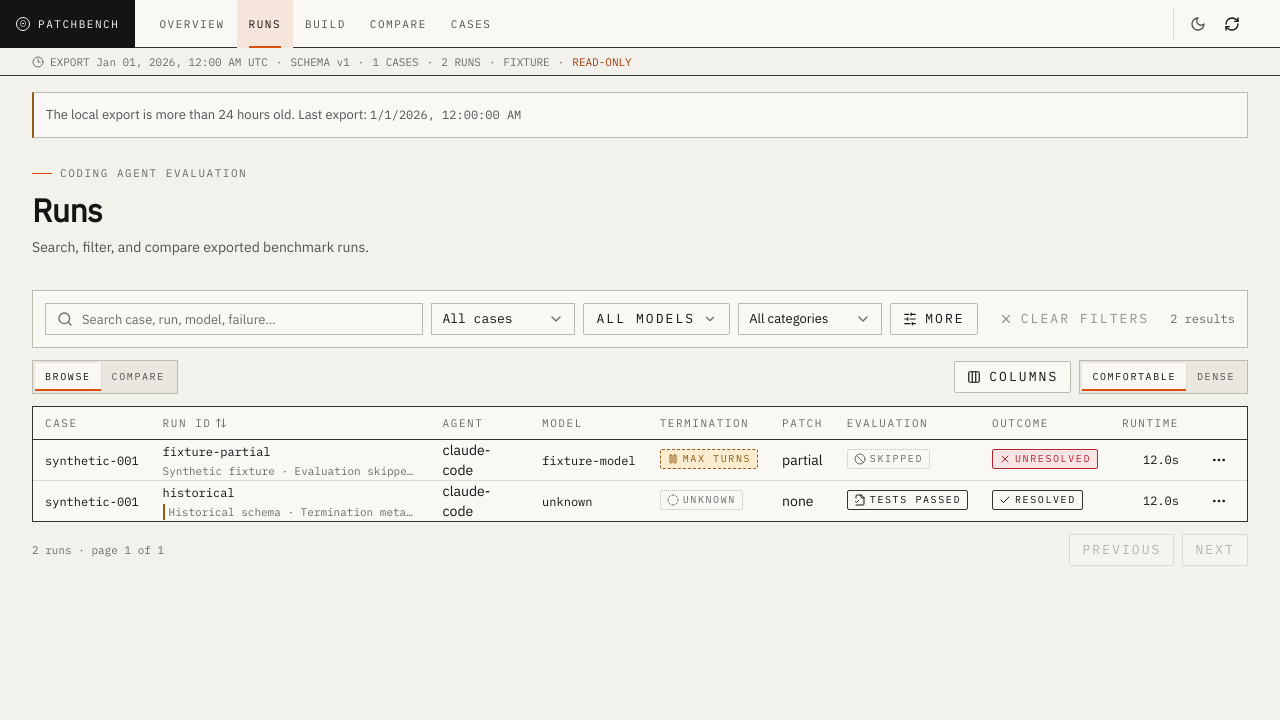
PatchBench evaluation workspace › selects runs in compare mode and opens a side-by-side comparison
expect the heading "Runs" is shown: met, box top-left (32, 189), bottom-right (102, 231)
Step 1. Click the radio button labelled "Compare" → (138,377), box top-left (102, 363), bottom-right (175, 391)
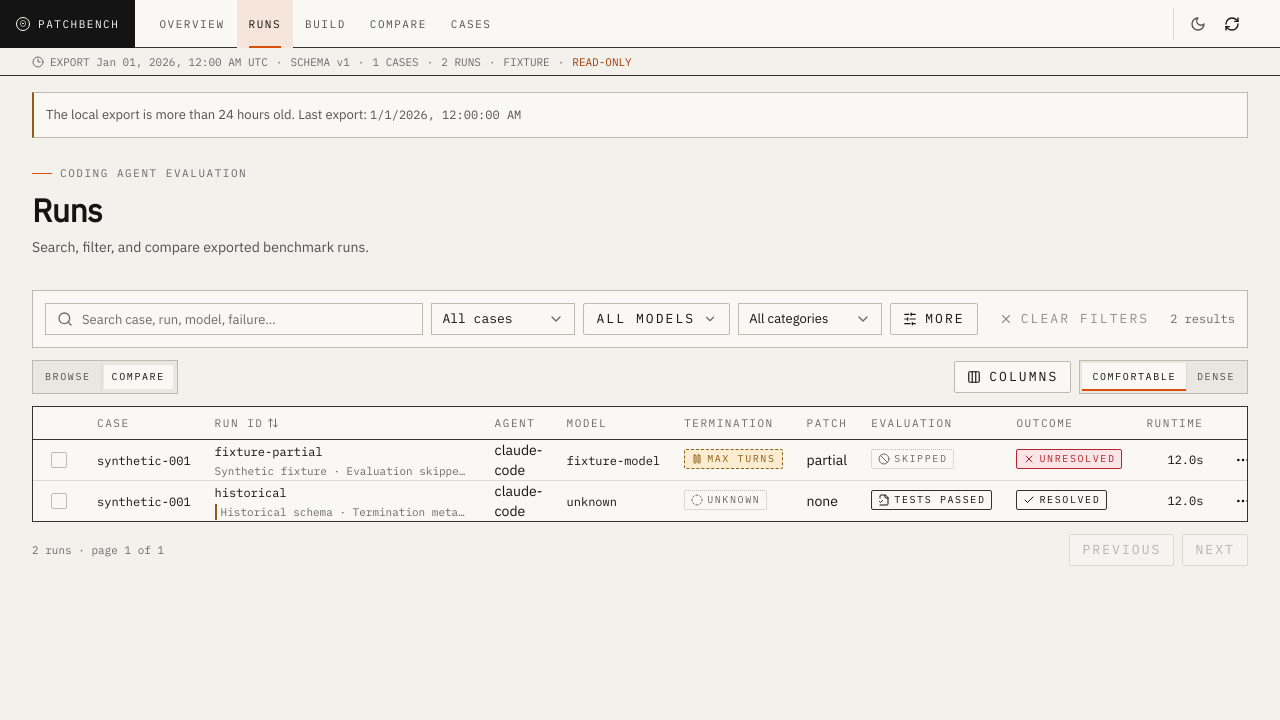
Step 2. Click the checkbox named "Compare fixture-partial" → (59,460), box top-left (51, 452), bottom-right (67, 468)
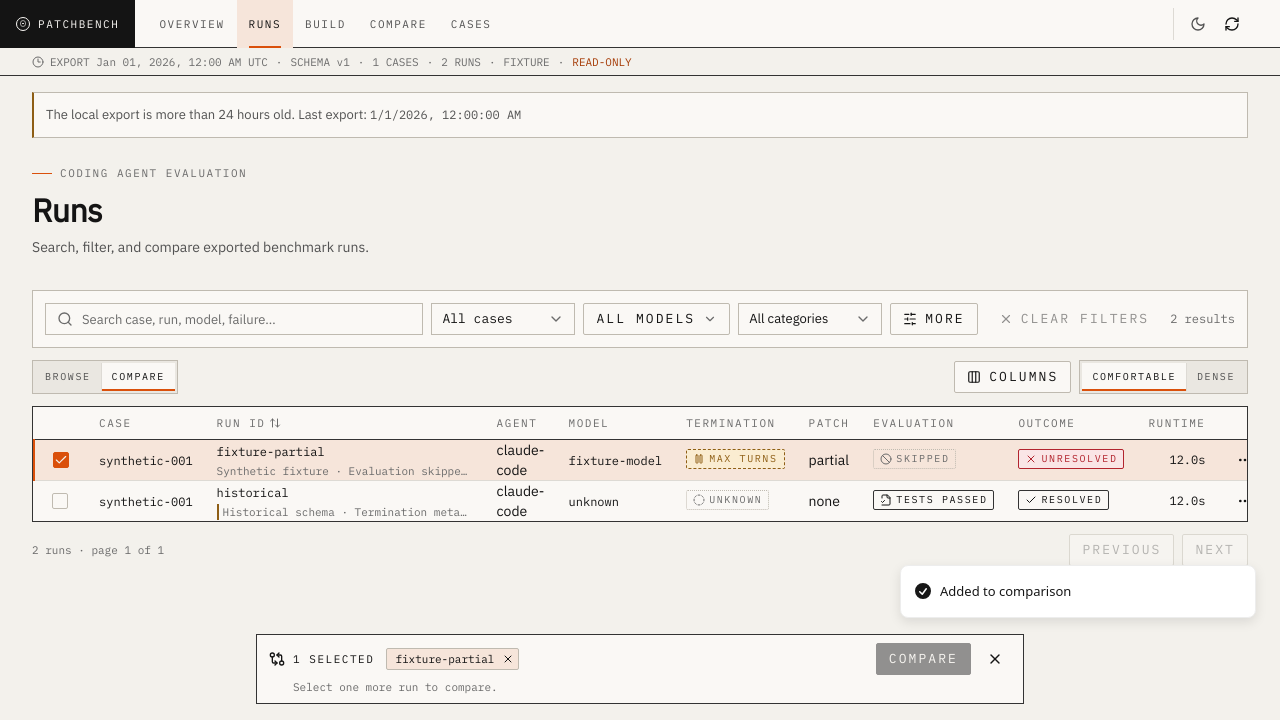
Step 3. Click the checkbox named "Compare historical" → (60,500), box top-left (52, 492), bottom-right (68, 508)
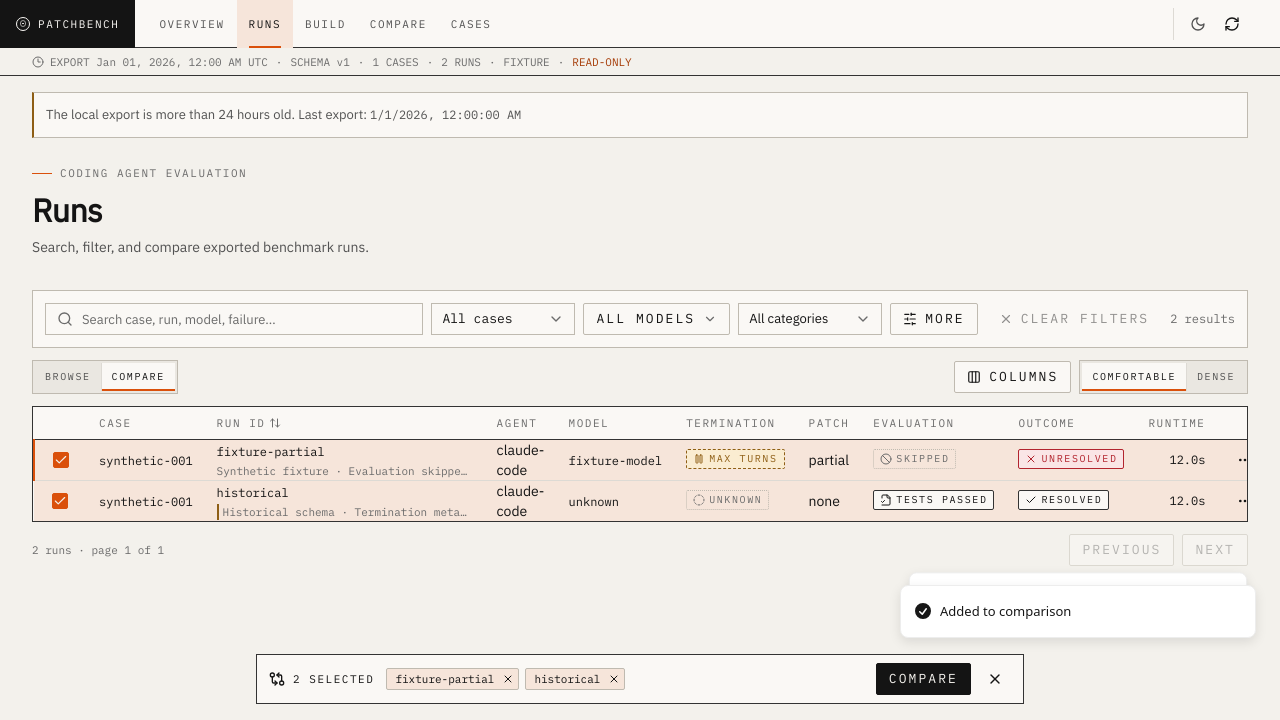
expect the text "fixture-partial" is shown: met, box top-left (395, 671), bottom-right (494, 687)
expect the text "historical" is shown: met, box top-left (534, 671), bottom-right (600, 687)
Step 4. Click the link "Compare" in the row of "selected" → (923,679), box top-left (876, 663), bottom-right (971, 695)
(page scrolled)
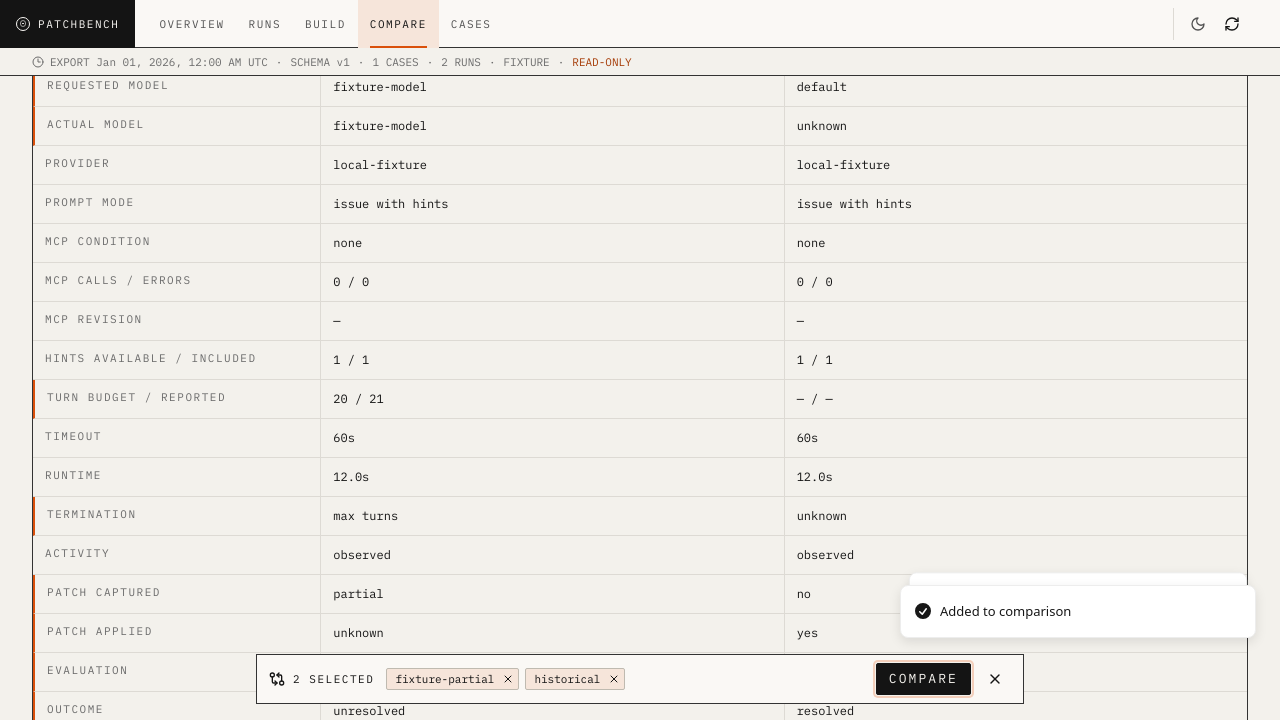
expect the text "Hints available / included" is shown: met, box top-left (33, 341), bottom-right (320, 380)
